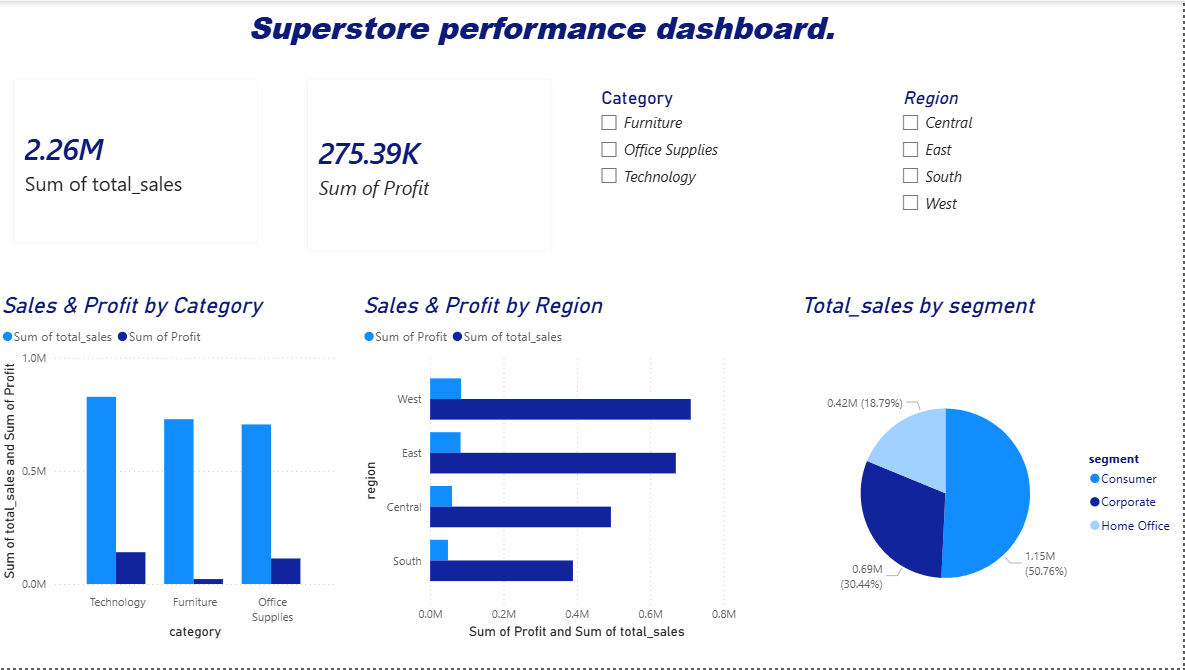

The page's visual inventory and layout, read from the dashboard file:
{"tool":"powerbi","page":{"name":"Dashboard","canvas":[1280,720],"ordinal":0},"visuals":[{"type":"textbox","box":[176.5,0,822.6,66.4],"z":0},{"type":"cardVisual","fields":{"Data":["Sum(monthly_sales.total_sales)"]},"box":[0,66.4,299.6,212.1],"z":1000},{"type":"cardVisual","fields":{"Data":["Sum(monthly_sales.estimated_profit)"]},"box":[317.4,66.4,299.6,221.8],"z":2000},{"type":"slicer","fields":{"Values":["monthly_sales.region"]},"box":[965.1,87.4,299.6,200.8],"z":3000},{"type":"slicer","fields":{"Values":["subcategory_sales.category"]},"box":[639.6,87.4,299.6,200.8],"z":4000},{"type":"clusteredColumnChart","title":"Sales & Profit by Category","fields":{"Category":["monthly_sales.category"],"Y":["Sum(monthly_sales.total_sales)","Sum(monthly_sales.estimated_profit)"]},"box":[0,314.1,369.2,378.9],"z":5000},{"type":"clusteredBarChart","title":"Sales & Profit by Region","fields":{"Category":["monthly_sales.region"],"Y":["Sum(monthly_sales.estimated_profit)","Sum(monthly_sales.total_sales)"]},"box":[390.2,314.1,412.9,378.9],"z":6000},{"type":"pieChart","title":"Total_sales by segment","fields":{"Category":["top_customers.segment"],"Y":["Sum(top_customers.total_sales)"]},"box":[863,314.1,417.8,406.4],"z":7000}]}

Visuals, with their boxes in screenshot pixels (x1, y1, x2, y2), scaled from the page's 1280x720 canvas onto the 1185x670 screenshot:
textbox: rect(163, 0, 925, 62)
cardVisual - Sum(monthly_sales.total_sales): rect(0, 62, 277, 259)
cardVisual - Sum(monthly_sales.estimated_profit): rect(294, 62, 571, 268)
slicer - monthly_sales.region: rect(893, 81, 1171, 268)
slicer - subcategory_sales.category: rect(592, 81, 869, 268)
"Sales & Profit by Category" clusteredColumnChart: rect(0, 292, 342, 645)
"Sales & Profit by Region" clusteredBarChart: rect(361, 292, 743, 645)
"Total_sales by segment" pieChart: rect(799, 292, 1184, 669)
